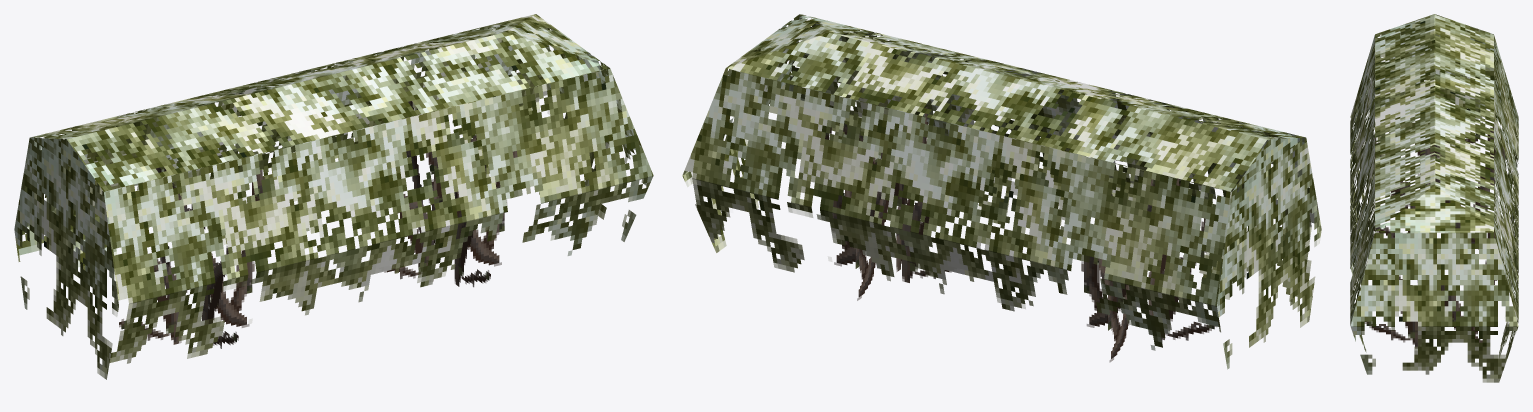
Rendered from bush_long_open_right_roots_winter.glb.
3 renders of one model, left to right at view 1: azimuth 30°, elevation 25°; view 2: azimuth 150°, elevation 25°; view 3: azimuth 270°, elevation 25°, orthographic. The views are drawn at different scales.
Visible parts, largest first — view 1: bush_long_open_right_roots_winter; view 2: bush_long_open_right_roots_winter; view 3: bush_long_open_right_roots_winter.
Boxes of the visible parts, x1=… form: bush_long_open_right_roots_winter: x1=14, y1=14, x2=653, y2=379; bush_long_open_right_roots_winter: x1=682, y1=14, x2=1321, y2=369; bush_long_open_right_roots_winter: x1=1350, y1=14, x2=1518, y2=382.
Size of the model in its own units: 2.12 by 0.8765 by 0.7191.
2 materials, 2 textured.
